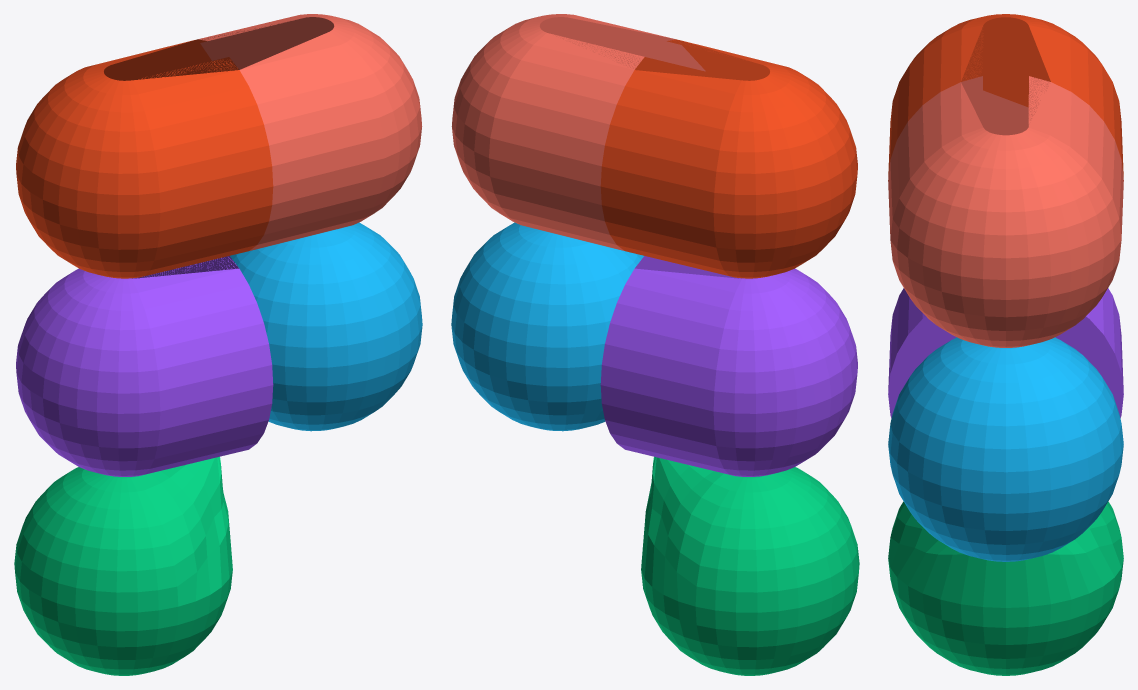
3 views of the same model, side by side, from view 1: azimuth 30°, elevation 25°; view 2: azimuth 150°, elevation 25°; view 3: azimuth 270°, elevation 25° (orthographic). The views are drawn at different scales.
Visible parts, largest first — view 1: Sphere, Sphere.001, Sphere.003, Sphere.004, Sphere.002; view 2: Sphere, Sphere.001, Sphere.003, Sphere.004, Sphere.002; view 3: Sphere.004, Sphere.002, Sphere.003, Sphere, Sphere.001.
Boxes of the visible parts, x1=… form: Sphere: x1=16, y1=39, x2=273, y2=278; Sphere.001: x1=16, y1=256, x2=273, y2=476; Sphere.003: x1=14, y1=456, x2=232, y2=675; Sphere.004: x1=198, y1=14, x2=422, y2=250; Sphere.002: x1=230, y1=222, x2=422, y2=431; Sphere: x1=600, y1=39, x2=857, y2=278; Sphere.001: x1=600, y1=256, x2=857, y2=476; Sphere.003: x1=641, y1=456, x2=859, y2=675; Sphere.004: x1=451, y1=14, x2=705, y2=250; Sphere.002: x1=451, y1=222, x2=643, y2=431; Sphere.004: x1=888, y1=76, x2=1123, y2=347; Sphere.002: x1=888, y1=337, x2=1123, y2=561; Sphere.003: x1=888, y1=501, x2=1123, y2=675; Sphere: x1=888, y1=14, x2=1123, y2=180; Sphere.001: x1=888, y1=288, x2=1123, y2=418.
Size of the model in its own units: 2.54 by 3.79 by 1.27.
